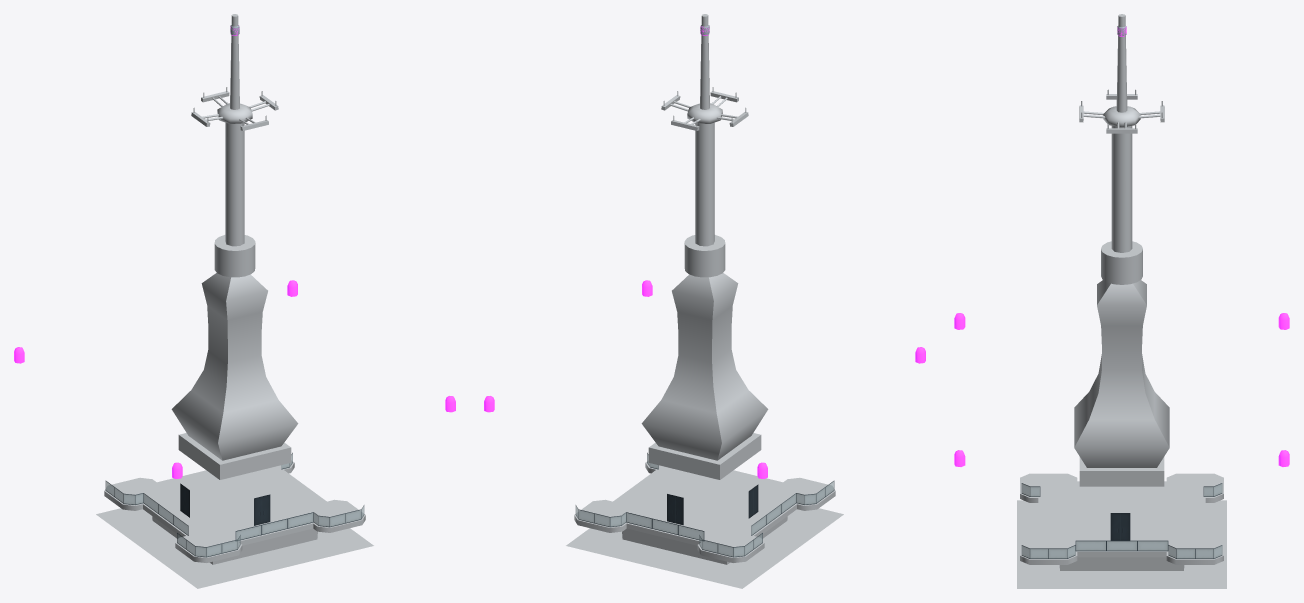
Rendered from t1_b_prism_top.glb.
3 views of the same model, side by side, from view 1: azimuth 30°, elevation 25°; view 2: azimuth 150°, elevation 25°; view 3: azimuth 270°, elevation 25° (orthographic). The views are drawn at different scales.
Visible parts, largest first — view 1: t1_b_prism_antena, t1_b_prism_barriers2, t1_b_prism_lights_on; view 2: t1_b_prism_antena, t1_b_prism_barriers2, t1_b_prism_lights_on; view 3: t1_b_prism_antena, t1_b_prism_barriers2, t1_b_prism_lights_on.
Part boxes in pixels (x1=…): t1_b_prism_antena: x1=96, y1=14, x2=373, y2=588; t1_b_prism_barriers2: x1=105, y1=25, x2=364, y2=557; t1_b_prism_lights_on: x1=14, y1=25, x2=455, y2=478; t1_b_prism_antena: x1=566, y1=14, x2=843, y2=588; t1_b_prism_barriers2: x1=575, y1=25, x2=834, y2=557; t1_b_prism_lights_on: x1=484, y1=26, x2=925, y2=478; t1_b_prism_antena: x1=1017, y1=14, x2=1226, y2=588; t1_b_prism_barriers2: x1=1021, y1=26, x2=1222, y2=558; t1_b_prism_lights_on: x1=954, y1=27, x2=1289, y2=466.
Bounding box in the file's own units: 26.8 × 46.68 × 26.8.
4 materials, 1 textured.
